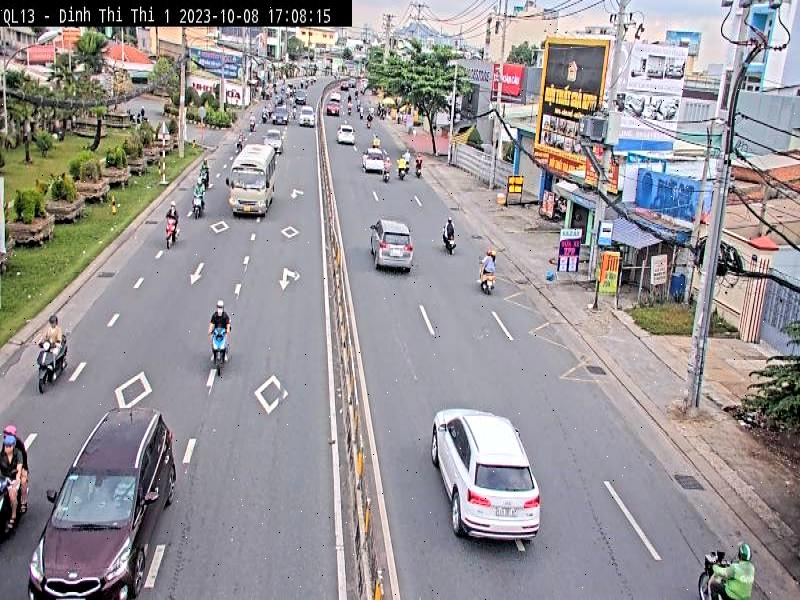bus: (229, 145, 276, 218)
car: (30, 405, 176, 600), (432, 403, 540, 545), (371, 218, 413, 275)
motorcycle: (38, 333, 68, 394), (209, 320, 230, 376)
